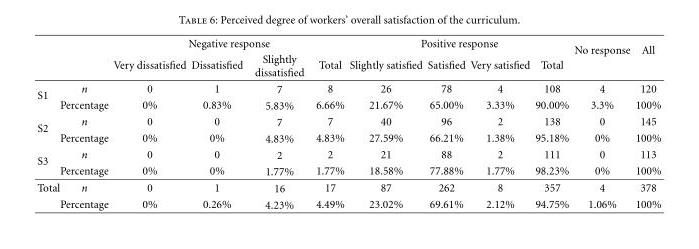table: (36, 37, 660, 210)
table column: (346, 37, 424, 210), (110, 37, 187, 210), (467, 37, 531, 210), (570, 37, 632, 210), (187, 37, 248, 210), (248, 37, 309, 210), (59, 37, 110, 210), (424, 37, 467, 210), (531, 37, 570, 210), (309, 37, 346, 210), (632, 37, 660, 210), (36, 37, 59, 210)
table column header: (36, 37, 660, 80)
table row: (36, 50, 660, 80), (36, 96, 660, 113), (36, 129, 660, 146), (36, 162, 660, 179), (36, 80, 660, 96), (36, 113, 660, 129), (36, 146, 660, 162), (36, 179, 660, 195), (36, 195, 660, 210), (36, 37, 660, 50)
table spanning cell: (110, 37, 346, 50), (346, 37, 570, 50), (570, 37, 632, 80), (632, 37, 660, 80), (36, 80, 59, 113), (36, 113, 59, 146), (36, 146, 59, 179), (36, 179, 59, 210)
